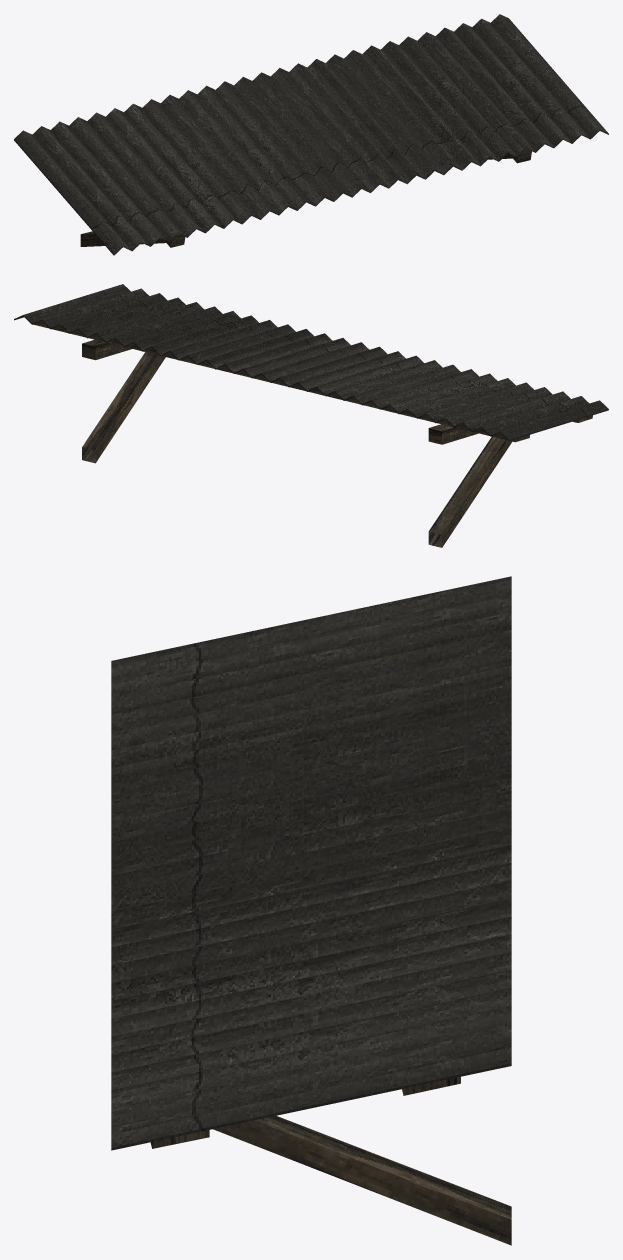
File: roof_small_hr_2.glb
3 renders of one model, top to bottom at view 1: azimuth 30°, elevation 25°; view 2: azimuth 150°, elevation 25°; view 3: azimuth 270°, elevation 25°, orthographic. The views are drawn at different scales.
Visible parts, largest first — view 1: roof_small_hr_2; view 2: roof_small_hr_2; view 3: roof_small_hr_2.
Part boxes in pixels (left/top/right/bottom): roof_small_hr_2: left=14, top=14, right=608, bottom=255; roof_small_hr_2: left=14, top=284, right=608, bottom=547; roof_small_hr_2: left=111, top=576, right=511, bottom=1245.
Size of the model in its own units: 4 by 1.01 by 1.4.
2 materials, 2 textured.
